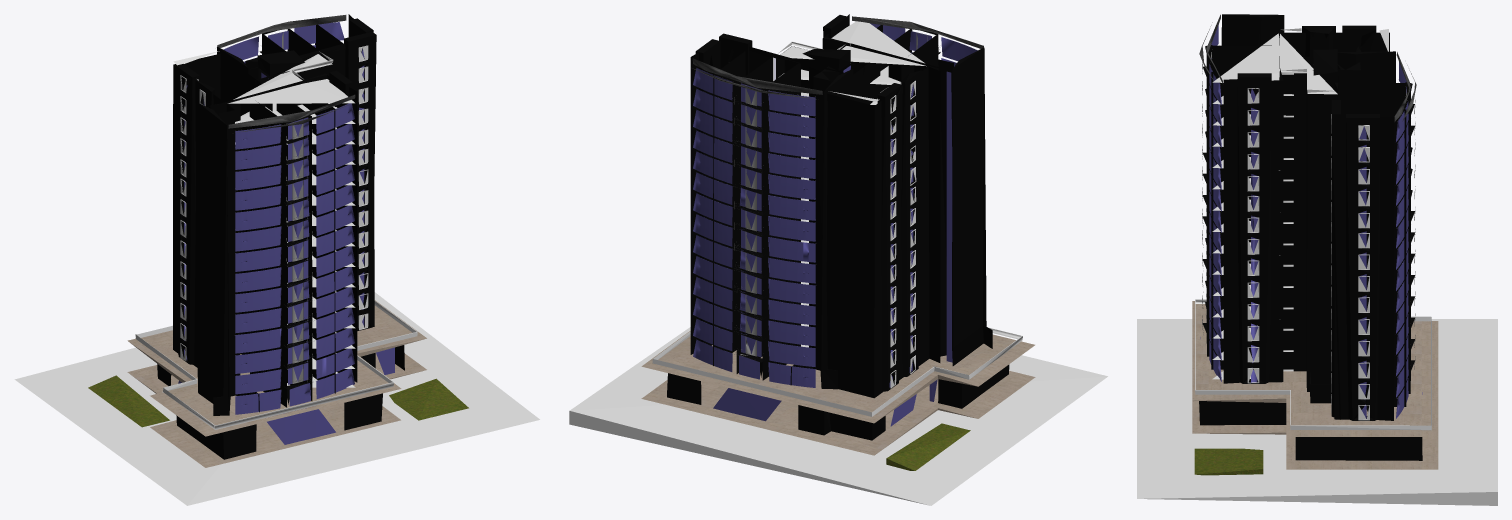
The model's file is blue_glass_tower_lod1.glb.
The picture shows the model from 3 angles, left to right: view 1: azimuth 30°, elevation 25°; view 2: azimuth 150°, elevation 25°; view 3: azimuth 270°, elevation 25°; orthographic projection. The views are drawn at different scales.
Parts seen in each view (by area): view 1: blue_glass_tower; view 2: blue_glass_tower; view 3: blue_glass_tower.
Boxes of the visible parts, x1,y1,x2,y2 form: blue_glass_tower: [14, 14, 539, 505]; blue_glass_tower: [569, 14, 1107, 505]; blue_glass_tower: [1137, 14, 1497, 505].
Bounding box in the file's own units: 59.91 × 56.11 × 50.76.
11 materials, 5 textured.
